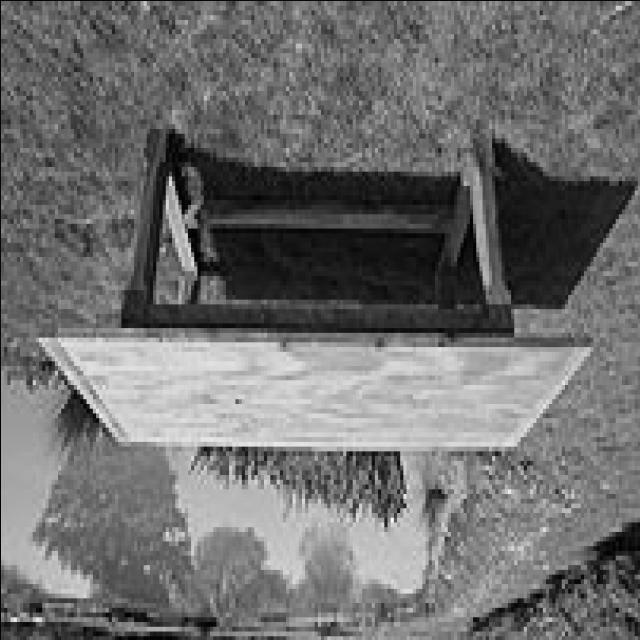table: (38, 130, 592, 452)
